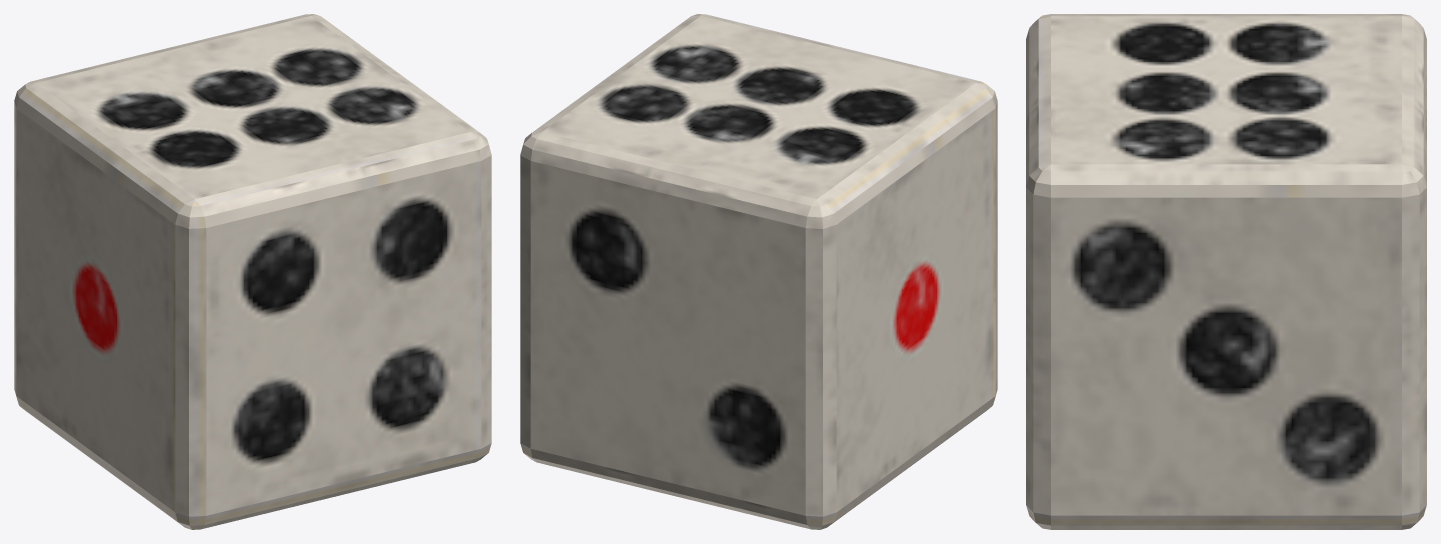
The model's file is die.glb.
3 views of the same model, side by side, from view 1: azimuth 30°, elevation 25°; view 2: azimuth 150°, elevation 25°; view 3: azimuth 270°, elevation 25° (orthographic). The views are drawn at different scales.
Parts seen in each view (by area): view 1: die; view 2: die; view 3: die.
Boxes of the visible parts, <box> form: die: <box>14,14,491,529</box>; die: <box>520,14,997,529</box>; die: <box>1026,14,1426,529</box>.
Bounding box in the file's own units: 0.016 × 0.016 × 0.016.
Materials: 1 (1 with a texture image).
